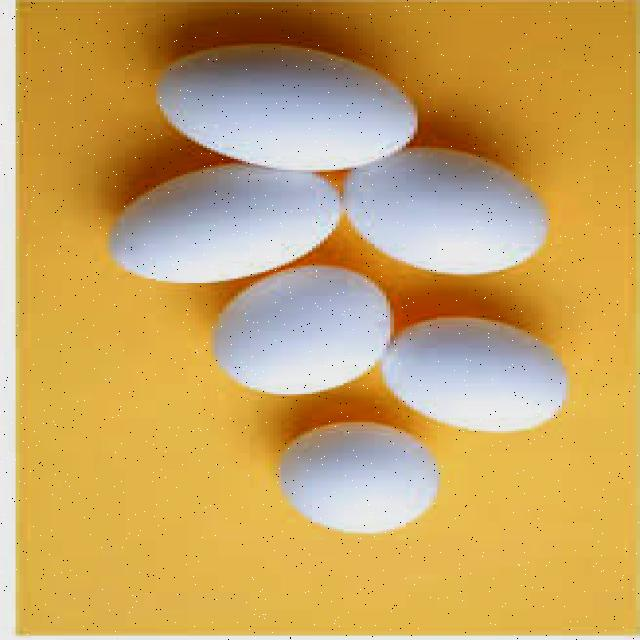White Egg: (157, 36, 418, 173), (95, 164, 341, 288), (338, 146, 562, 274), (383, 310, 578, 442), (214, 264, 395, 394), (272, 412, 451, 536)
